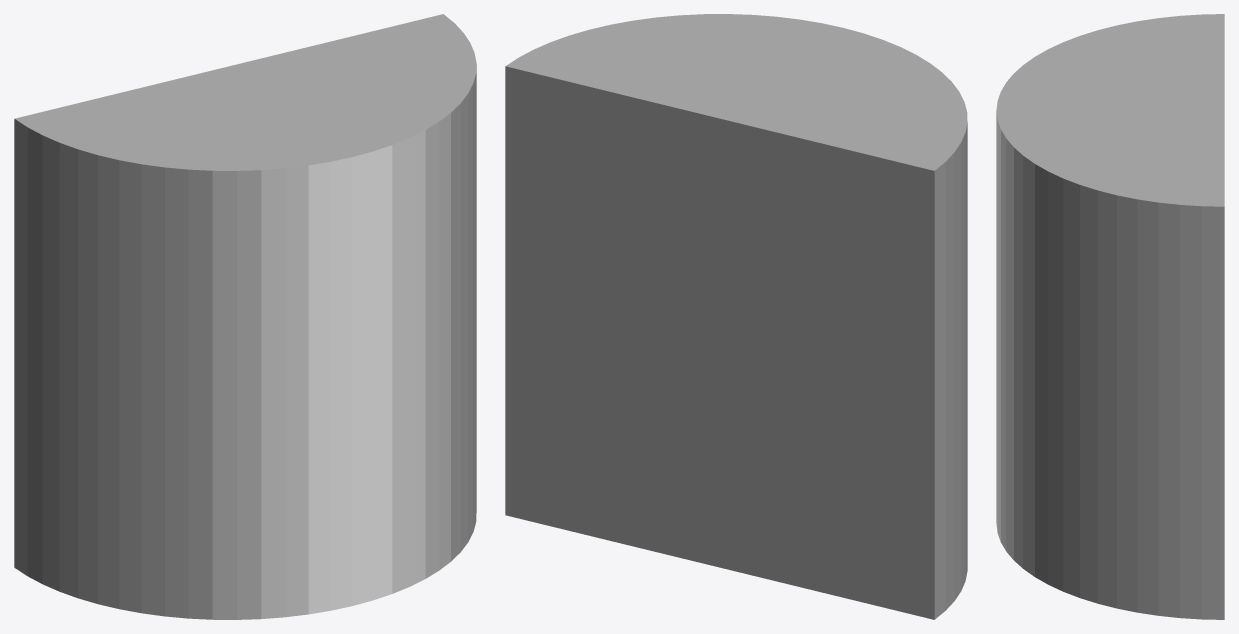
The model's file is CylinderHalf_20x10x20.fbx.
3 views of the same model, side by side, from view 1: azimuth 30°, elevation 25°; view 2: azimuth 150°, elevation 25°; view 3: azimuth 270°, elevation 25° (orthographic). The views are drawn at different scales.
Visible parts, largest first — view 1: CylinderHalf_20x10x20; view 2: CylinderHalf_20x10x20; view 3: CylinderHalf_20x10x20.
Boxes of the visible parts, x1=… form: CylinderHalf_20x10x20: x1=14, y1=14, x2=476, y2=619; CylinderHalf_20x10x20: x1=505, y1=14, x2=967, y2=619; CylinderHalf_20x10x20: x1=996, y1=14, x2=1224, y2=619.
Bounding box in the file's own units: 20 × 20 × 10.
